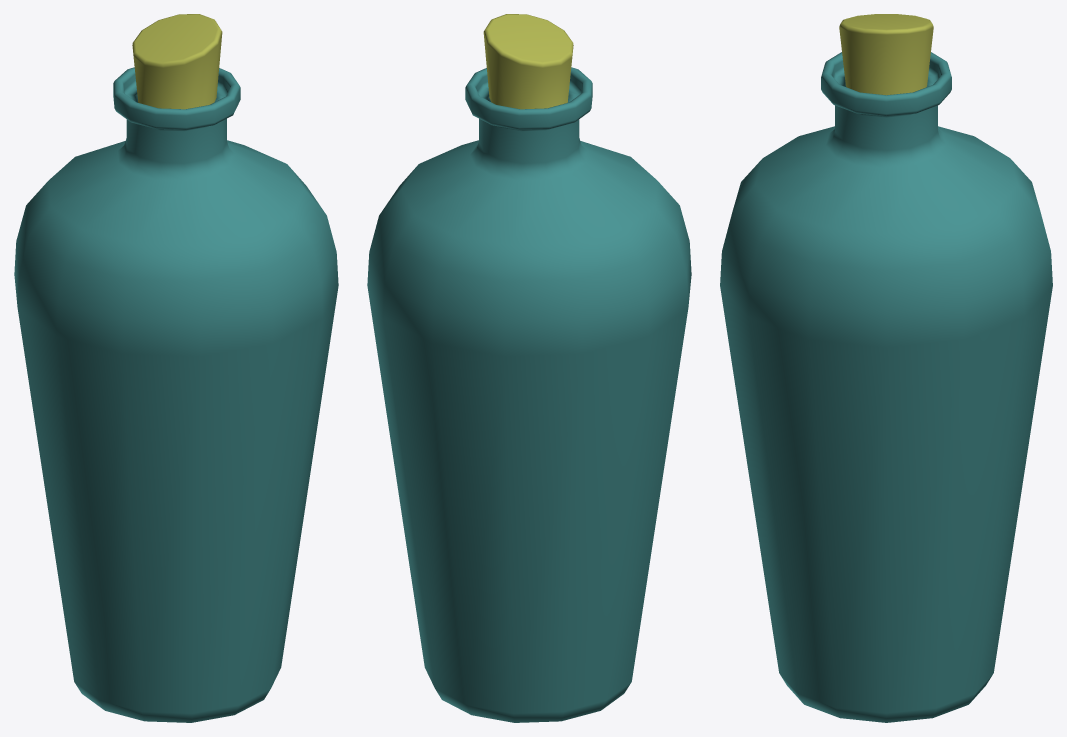
The model's file is SM_Bottle_4.fbx.
The picture shows the model from 3 angles, left to right: view 1: azimuth 30°, elevation 25°; view 2: azimuth 150°, elevation 25°; view 3: azimuth 270°, elevation 25°; orthographic projection. The views are drawn at different scales.
Parts seen in each view (by area): view 1: pCylinder3; view 2: pCylinder3; view 3: pCylinder3.
Boxes of the visible parts, x1=… form: pCylinder3: x1=14, y1=14, x2=338, y2=722; pCylinder3: x1=367, y1=14, x2=691, y2=722; pCylinder3: x1=720, y1=14, x2=1052, y2=722.
Bounding box in the file's own units: 0.2028 × 0.4565 × 0.2043.
